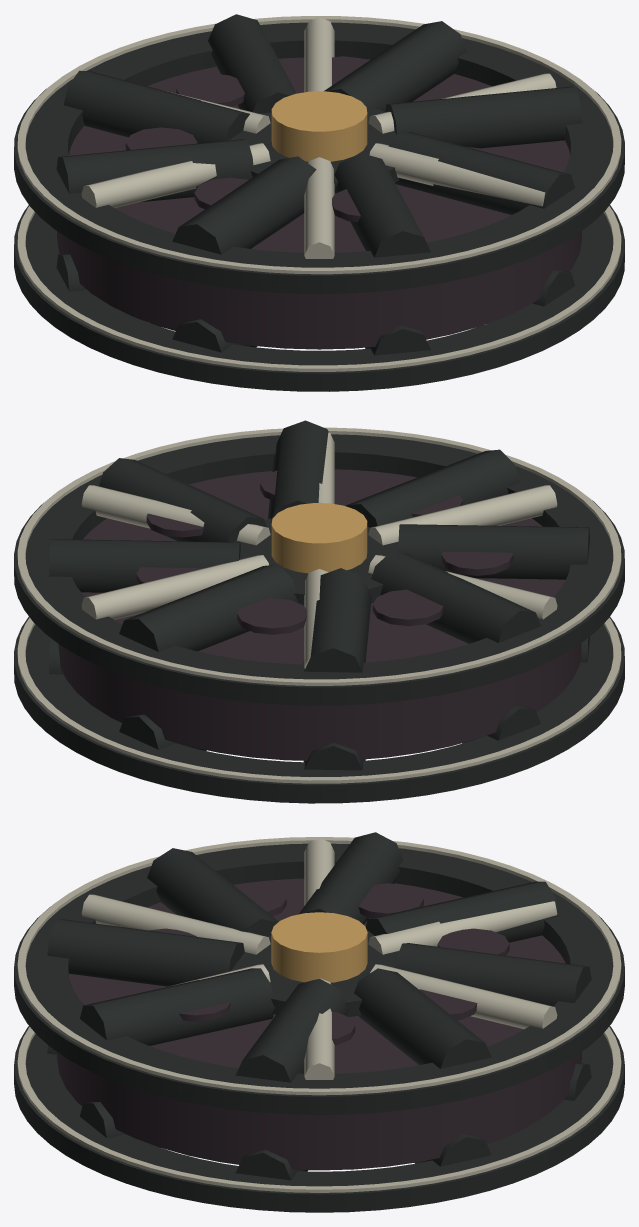
The model's file is Executive.glb.
The picture shows the model from 3 angles, top to bottom: view 1: azimuth 30°, elevation 25°; view 2: azimuth 150°, elevation 25°; view 3: azimuth 270°, elevation 25°; orthographic projection.
Parts seen in each view (by area): view 1: Stamped outer rim (×2), Pressed web (×12), Wound silk, Pressed lip (×2), Raised spoke (×6), Spindle, Spool window (×5), Spool hub; view 2: Stamped outer rim (×2), Pressed web (×11), Wound silk, Pressed lip (×2), Raised spoke (×6), Spool window (×5), Spindle, Spool hub; view 3: Stamped outer rim (×2), Pressed web (×12), Wound silk, Pressed lip (×2), Raised spoke (×5), Spool window (×6), Spindle, Spool hub.
Part boxes in pixels (box(x1,y1,x2,y2)): Stamped outer rim (×2): box(14, 22, 624, 391); Pressed web (×12): box(56, 14, 582, 355); Wound silk: box(57, 57, 581, 349); Pressed lip (×2): box(17, 16, 621, 371); Raised spoke (×6): box(81, 17, 556, 258); Spindle: box(271, 91, 367, 161); Spool window (×5): box(125, 56, 367, 222); Spool hub: box(229, 108, 399, 193); Stamped outer rim (×2): box(14, 434, 624, 803); Pressed web (×11): box(49, 420, 589, 770); Wound silk: box(58, 469, 581, 760); Pressed lip (×2): box(17, 427, 621, 783); Raised spoke (×6): box(81, 432, 557, 668); Spool window (×5): box(136, 513, 513, 634); Spindle: box(271, 503, 367, 573); Spool hub: box(233, 518, 415, 605); Stamped outer rim (×2): box(14, 843, 624, 1212); Pressed web (×12): box(47, 832, 591, 1180); Wound silk: box(57, 878, 581, 1170); Pressed lip (×2): box(17, 837, 621, 1192); Raised spoke (×5): box(81, 838, 557, 1079); Spool window (×6): box(179, 883, 509, 1045); Spindle: box(271, 912, 367, 982); Spool hub: box(231, 930, 398, 1016).
Bounding box in the file's own units: 0.85 × 0.253 × 0.85.
